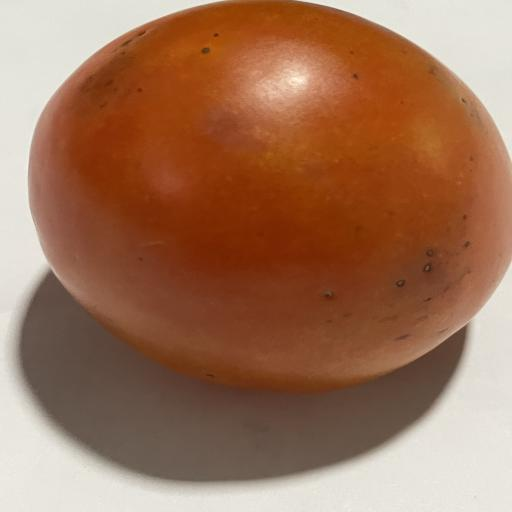unripe: (29, 0, 512, 391)
